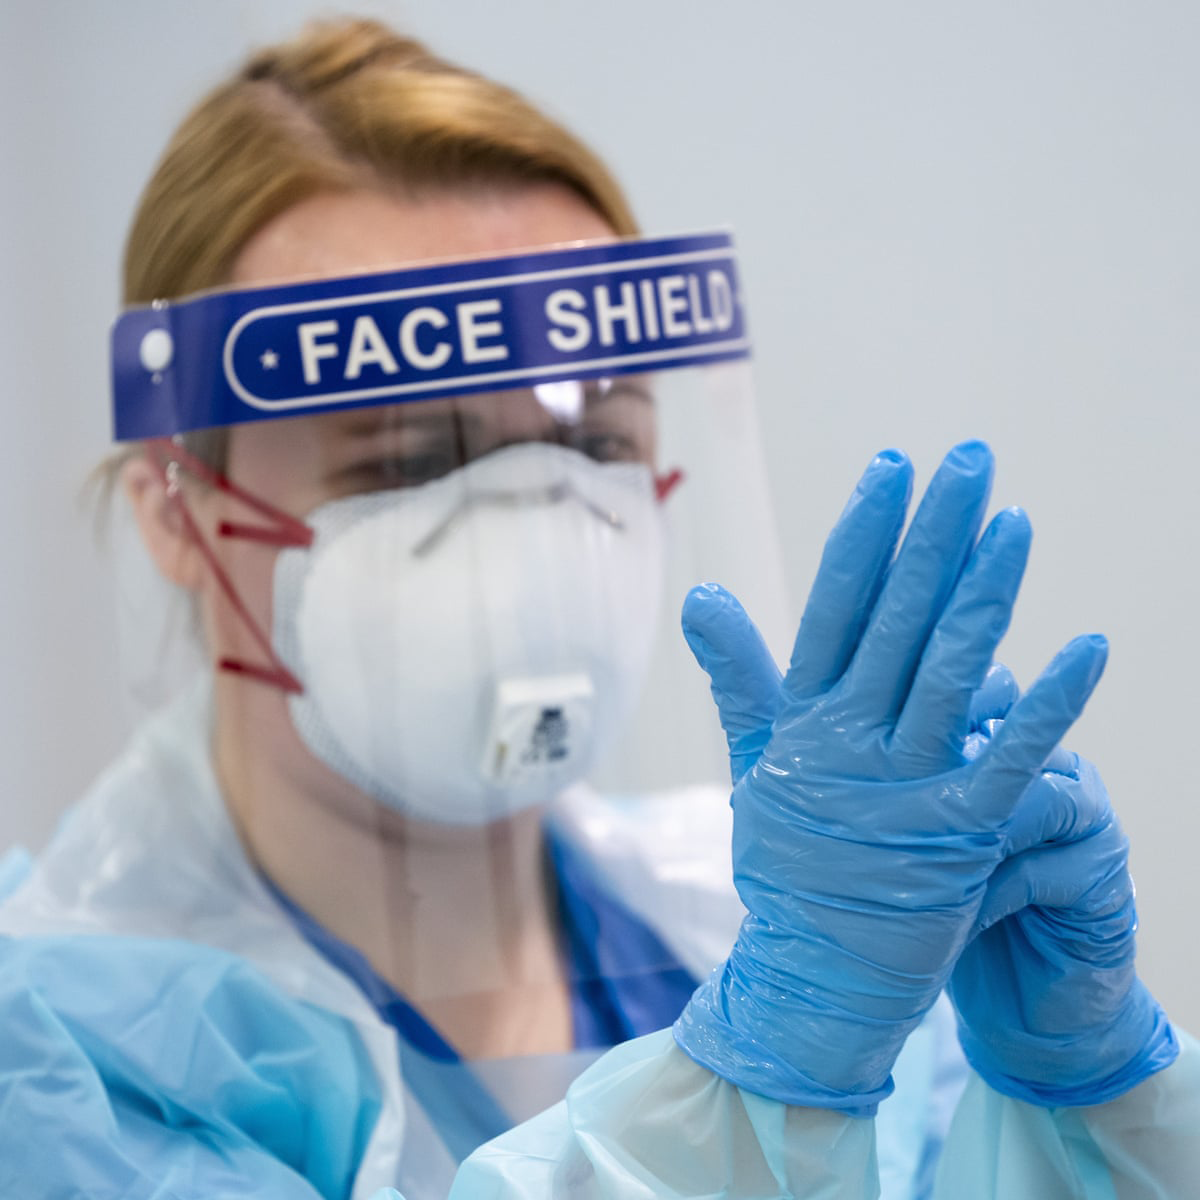Gloves: (676, 416, 1080, 1088)
Mask: (238, 423, 681, 837), (944, 775, 1171, 1095)
